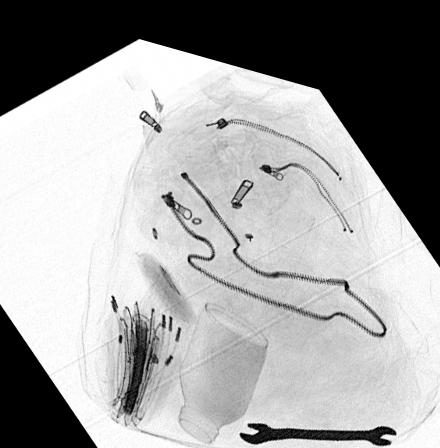Wrench: (234, 404, 399, 432)
